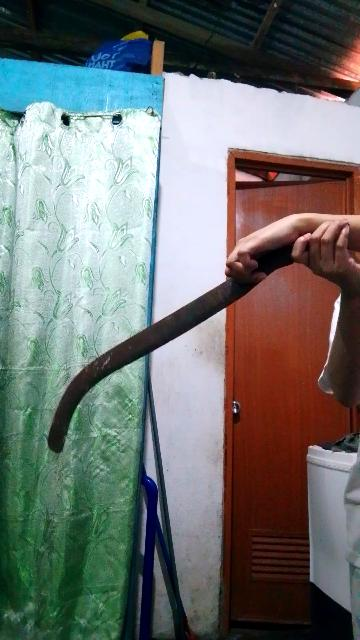long knife: (34, 220, 326, 464)
